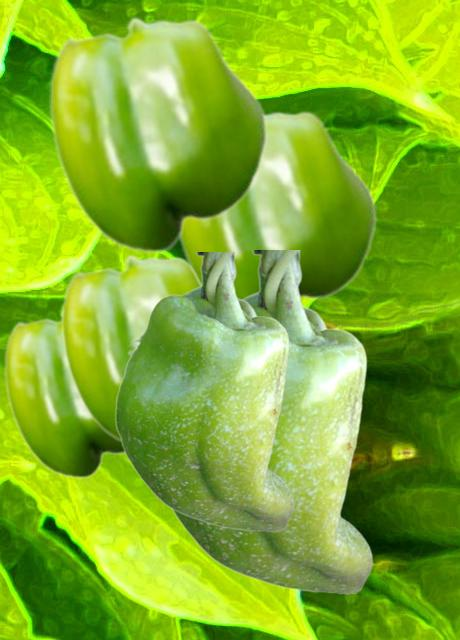bell_pepper: (171, 250, 372, 593), (49, 16, 267, 253), (114, 252, 293, 531), (177, 108, 376, 302), (61, 254, 200, 444), (4, 310, 124, 478)
